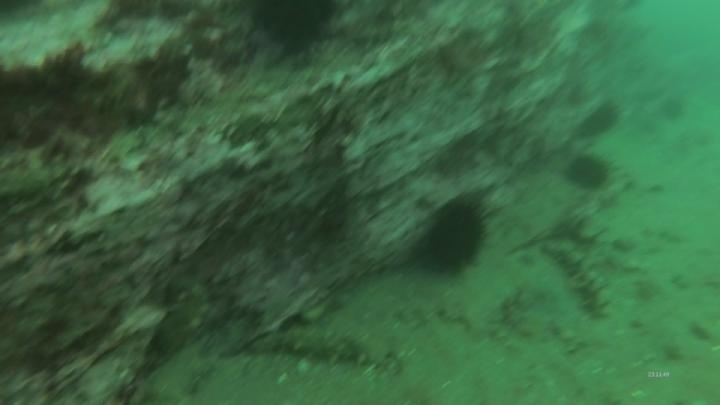echinus: (416, 192, 495, 280), (244, 1, 342, 60), (562, 150, 615, 193), (575, 99, 622, 141), (657, 94, 688, 124)
holothurian: (255, 319, 403, 375), (542, 236, 614, 323)
